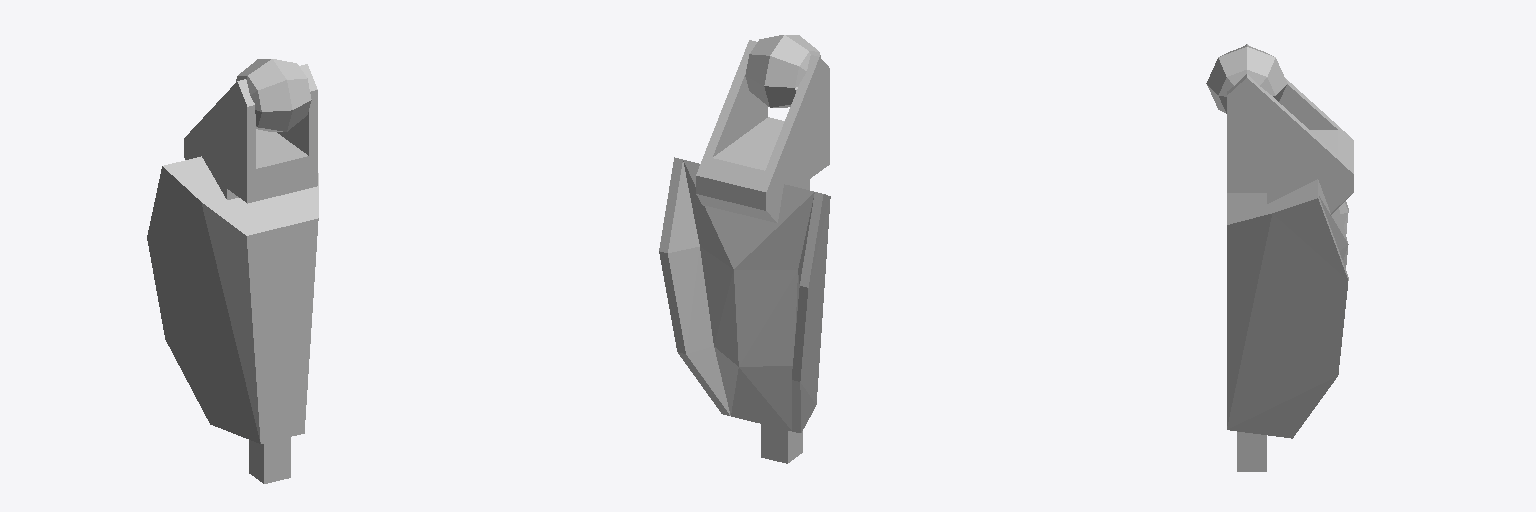
Rendered from zaktan_lbone.obj.
The picture shows the model from 3 angles: view 1: azimuth 30°, elevation 25°; view 2: azimuth 150°, elevation 25°; view 3: azimuth 270°, elevation 25°; orthographic projection.
Visible parts, largest first — view 1: zaktaan.zaktaan.smd.mesh_0.004_zaktaan.zaktaan.smd.mesh_0.007; view 2: zaktaan.zaktaan.smd.mesh_0.004_zaktaan.zaktaan.smd.mesh_0.007; view 3: zaktaan.zaktaan.smd.mesh_0.004_zaktaan.zaktaan.smd.mesh_0.007.
Part boxes in pixels (bbox=[...]): zaktaan.zaktaan.smd.mesh_0.004_zaktaan.zaktaan.smd.mesh_0.007: bbox=[147, 59, 318, 483]; zaktaan.zaktaan.smd.mesh_0.004_zaktaan.zaktaan.smd.mesh_0.007: bbox=[659, 35, 830, 463]; zaktaan.zaktaan.smd.mesh_0.004_zaktaan.zaktaan.smd.mesh_0.007: bbox=[1206, 44, 1353, 471].
Size of the model in its own units: 8.39 by 22.47 by 7.16.